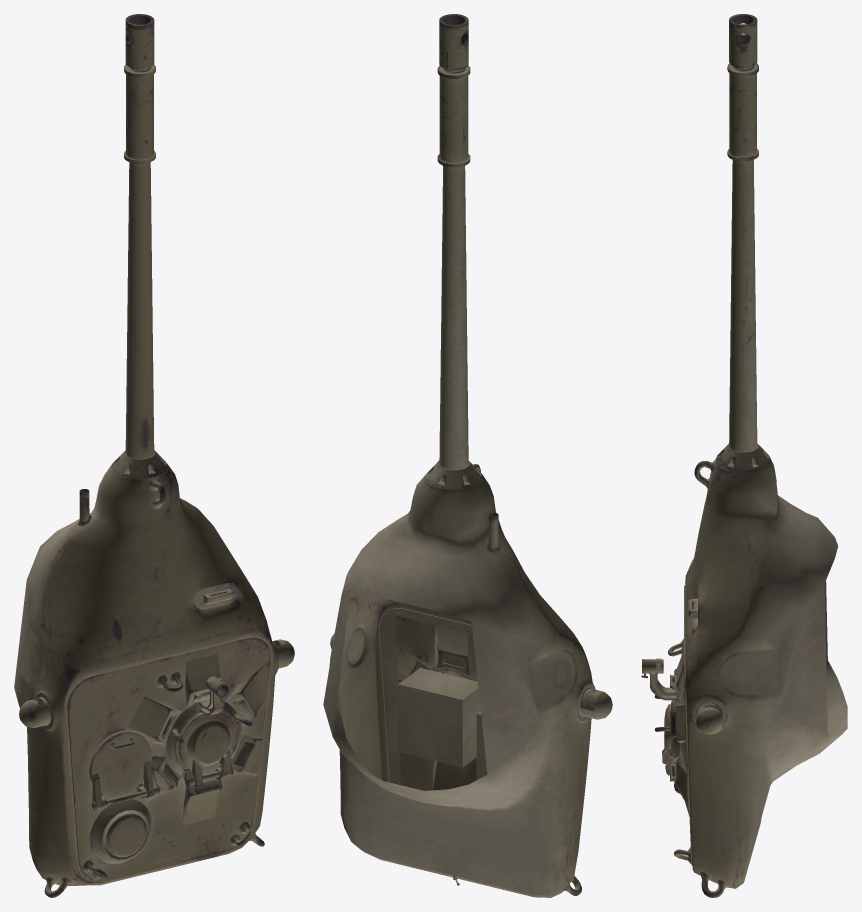
Rendered from Gun_02.glb.
The picture shows the model from 3 angles, left to right: view 1: azimuth 30°, elevation 25°; view 2: azimuth 150°, elevation 25°; view 3: azimuth 270°, elevation 25°; orthographic projection. The views are drawn at different scales.
Visible parts, largest first — view 1: set_0_group_0; view 2: set_0_group_0; view 3: set_0_group_0.
Boxes of the visible parts, left/top/right/bottom form: set_0_group_0: left=14, top=14, right=294, bottom=897; set_0_group_0: left=323, top=14, right=612, bottom=897; set_0_group_0: left=641, top=14, right=847, bottom=897.
Size of the model in its own units: 2.34 by 6.98 by 1.56.
1 material, 1 textured.
